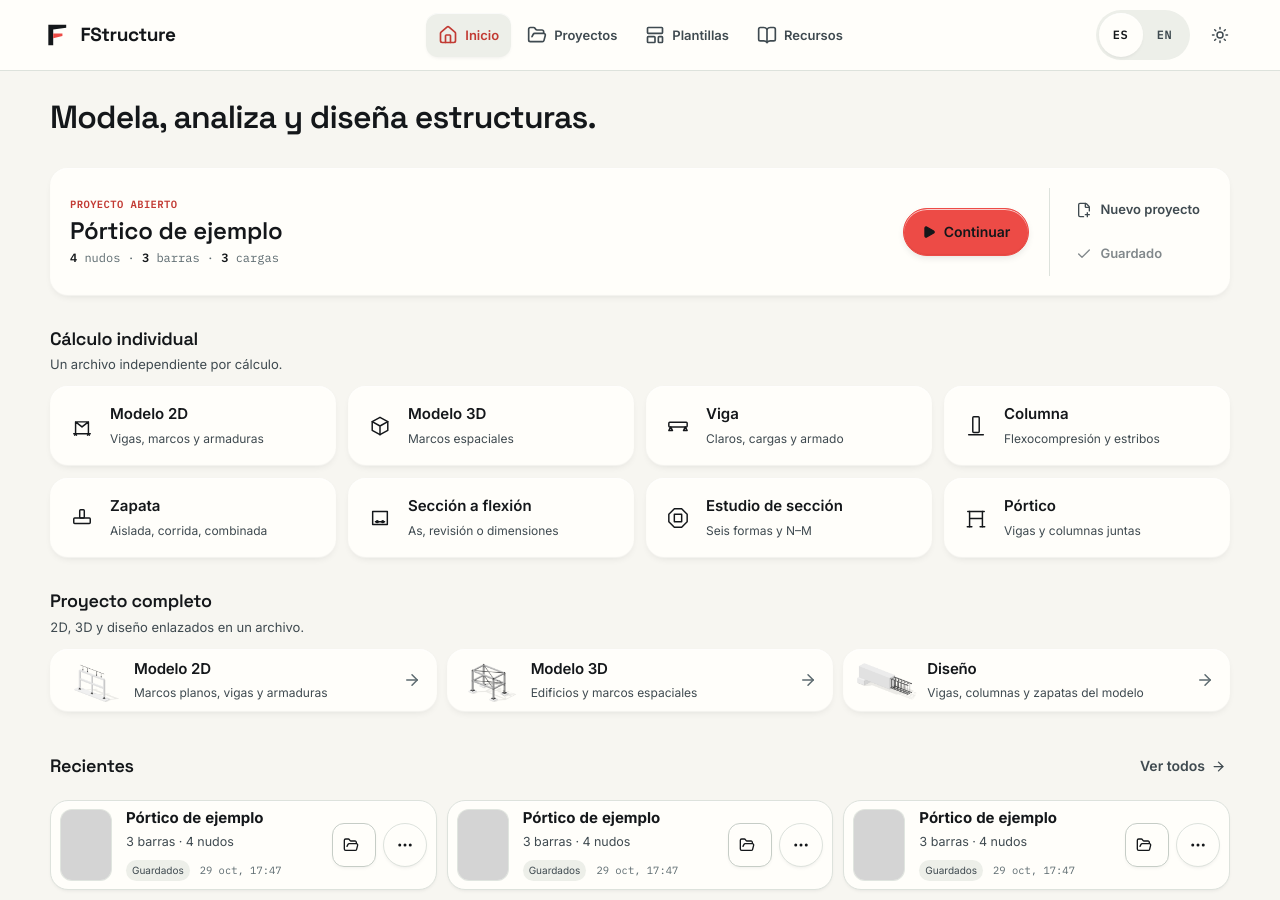
it: standalone FStructure › una pieza individual abre sola, sin interruptor de modos, y no puede saltar a otro modo
The width and height of the screenshot is (1280, 900).
Click the button "Zapata Aislada, corrida, combinada" at (135, 506), box [50,478,336,558]
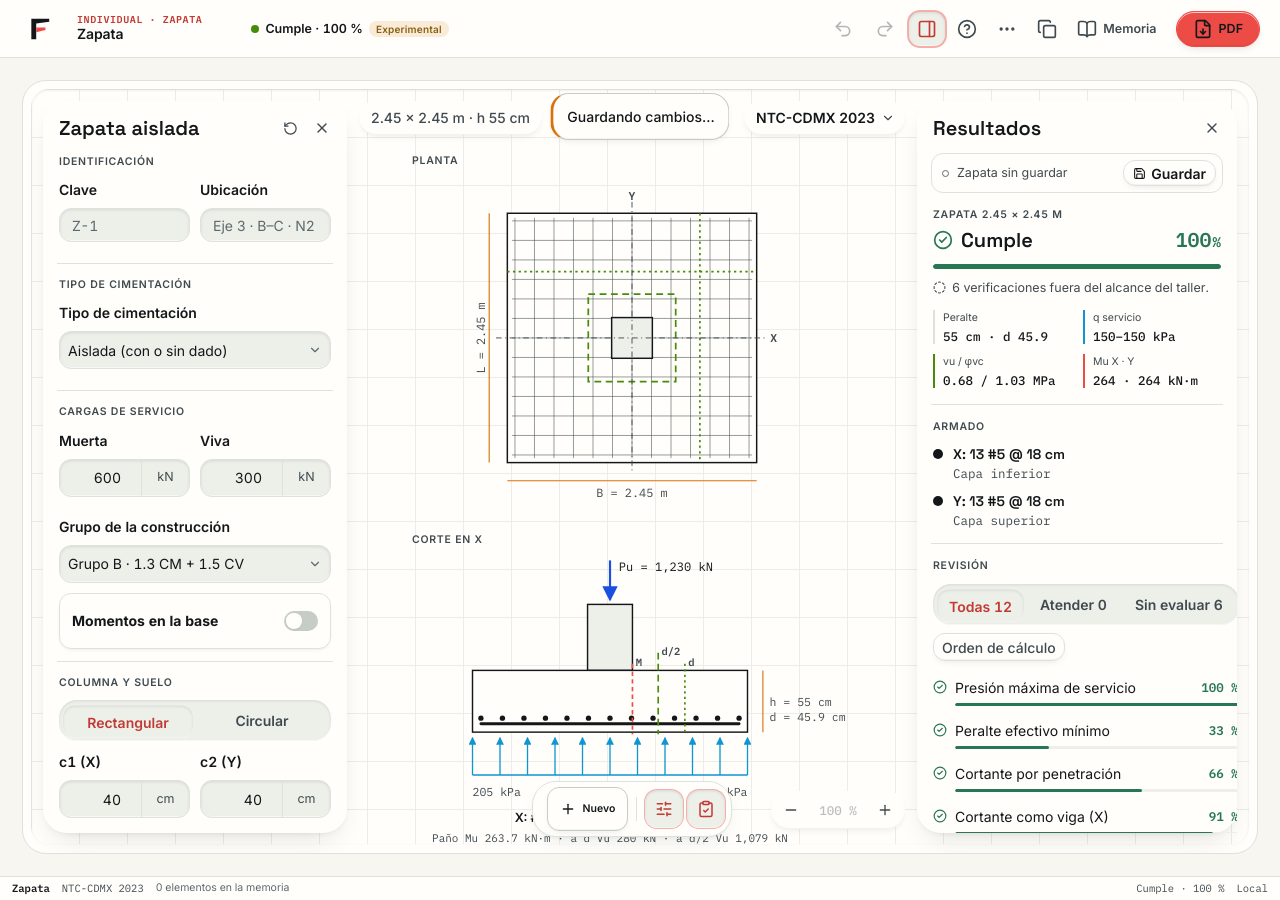
Check: the button with aria-label "Nuevo diseño" is shown, box [547,787,628,831]
Check: the dropdown labelled "Tipo de cimentación" is shown, box [60,332,330,368]
Check: the text "Individual · Zapata" is shown, box [77,14,202,25]
